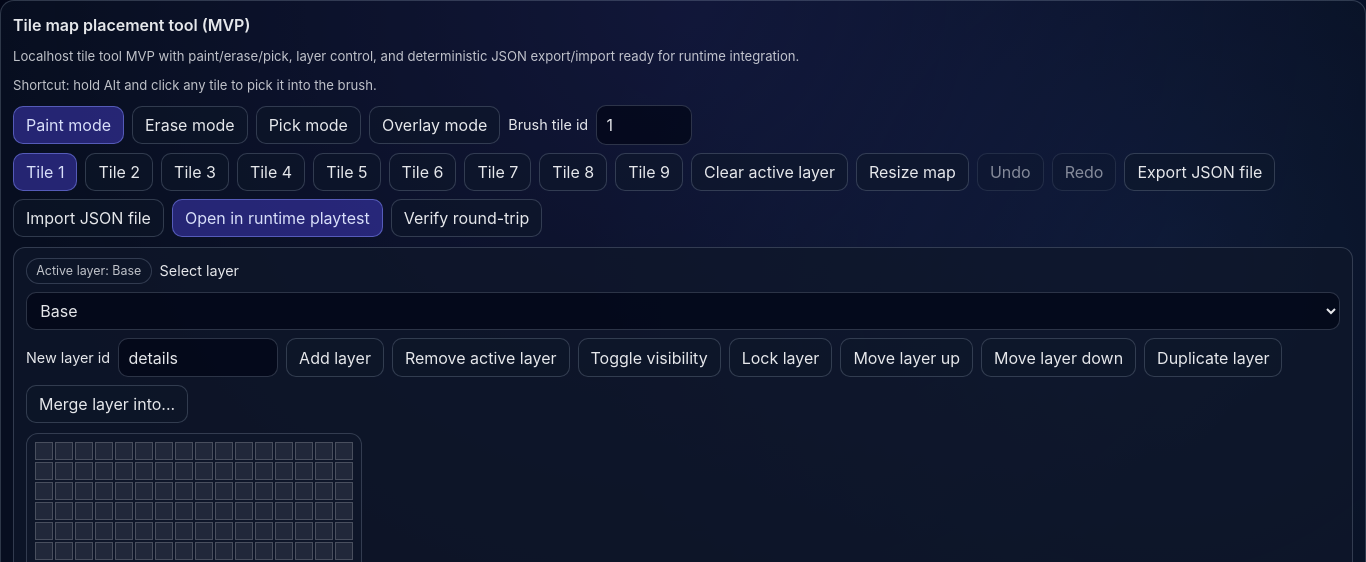
Test case: TileMapPlacementToolExample › prevents tile edits while active layer is locked
The width and height of the screenshot is (1366, 562).
Click the button "Lock layer" at coordinates (781, 358), box [729, 338, 832, 377]
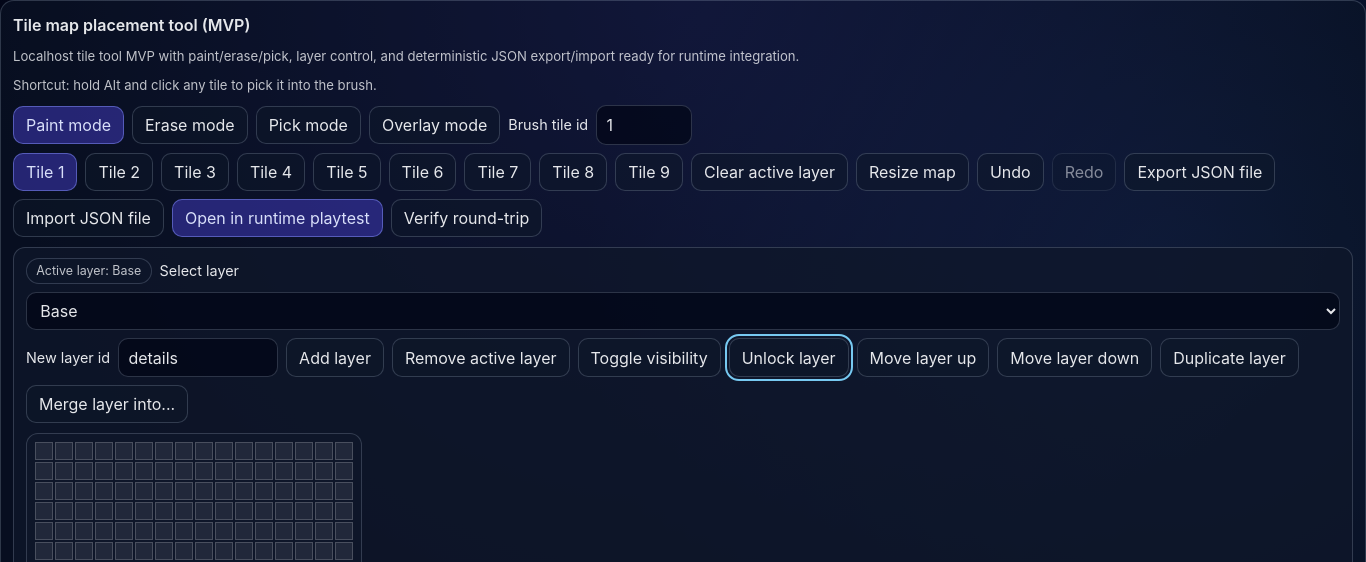
Click the button named "Tile (0, 0)" at coordinates (44, 451), box [35, 442, 53, 460]
(page scrolled)
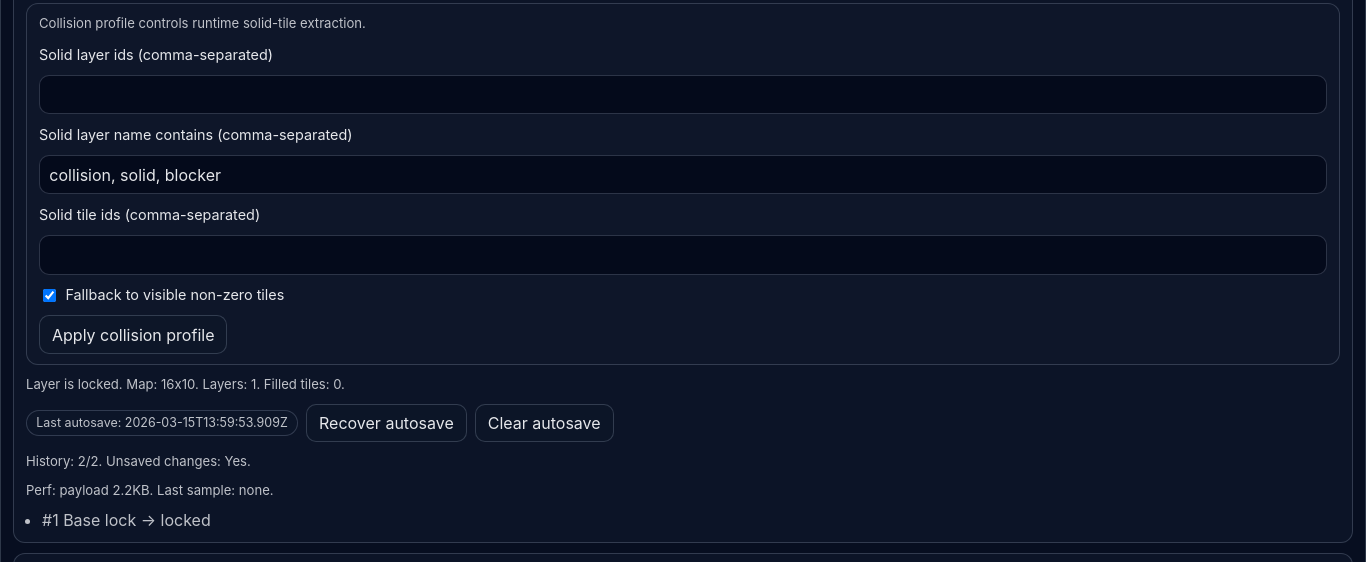
Expected: the text "Layer is locked. Map: 16x10. Layers: 1. Filled tiles: 0." is shown, [26, 376, 345, 392]
